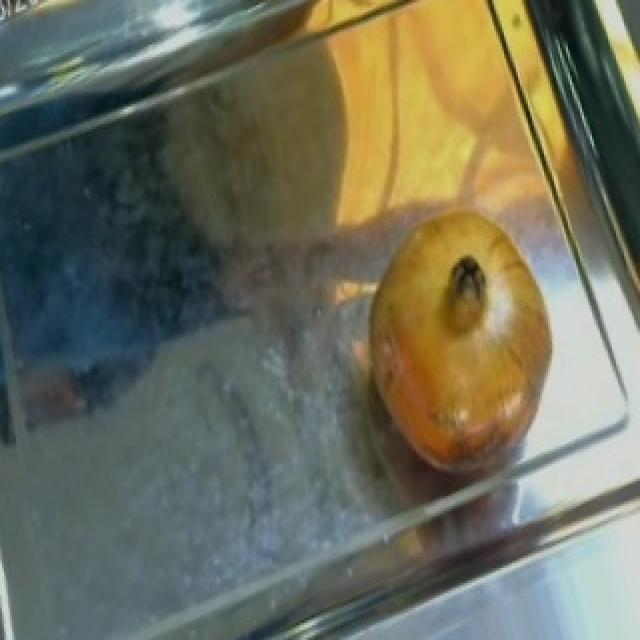fruit: (330, 178, 588, 474)
